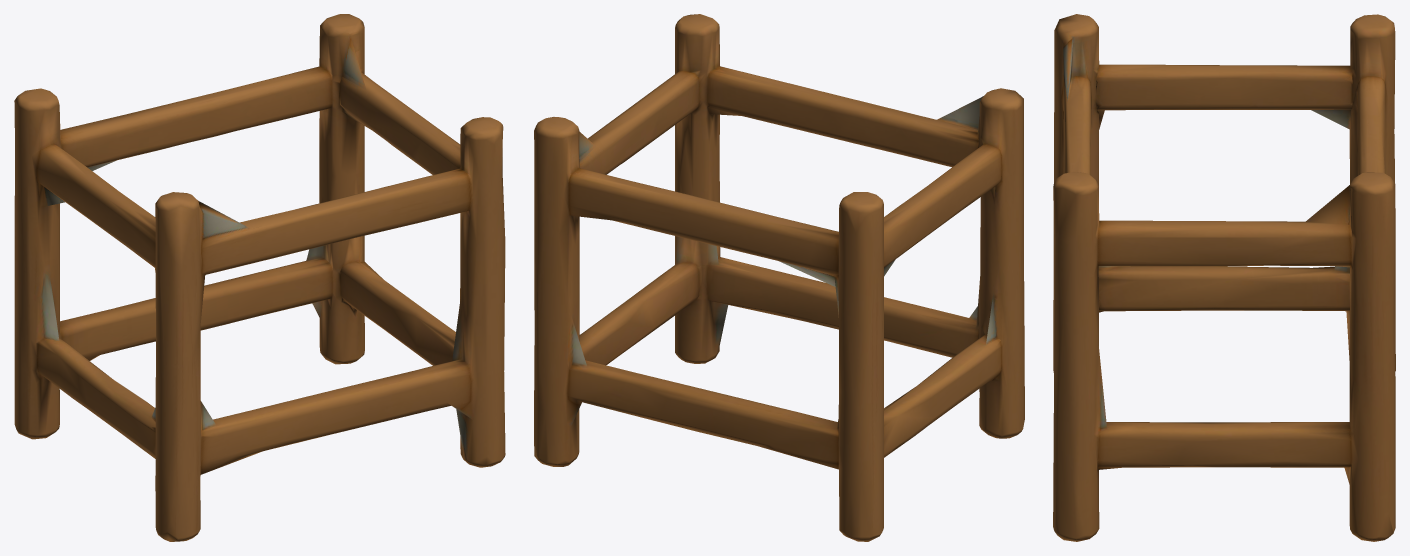
The model's file is wooden storage empty.glb.
The picture shows the model from 3 angles, left to right: view 1: azimuth 30°, elevation 25°; view 2: azimuth 150°, elevation 25°; view 3: azimuth 270°, elevation 25°; orthographic projection. The views are drawn at different scales.
Visible parts, largest first — view 1: tripo_node_db202cff-385c-4484-b1c4-1094959b0477; view 2: tripo_node_db202cff-385c-4484-b1c4-1094959b0477; view 3: tripo_node_db202cff-385c-4484-b1c4-1094959b0477.
Part boxes in pixels (x1=…): tripo_node_db202cff-385c-4484-b1c4-1094959b0477: x1=14, y1=14, x2=505, y2=541; tripo_node_db202cff-385c-4484-b1c4-1094959b0477: x1=534, y1=14, x2=1024, y2=541; tripo_node_db202cff-385c-4484-b1c4-1094959b0477: x1=1053, y1=14, x2=1395, y2=541.
Size of the model in its own units: 1 by 0.9374 by 0.8182.
1 material, 1 textured.
